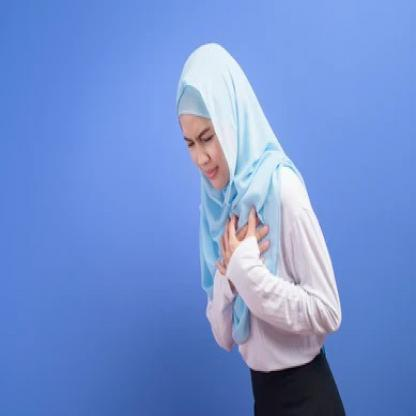pain: (178, 127, 223, 156)
